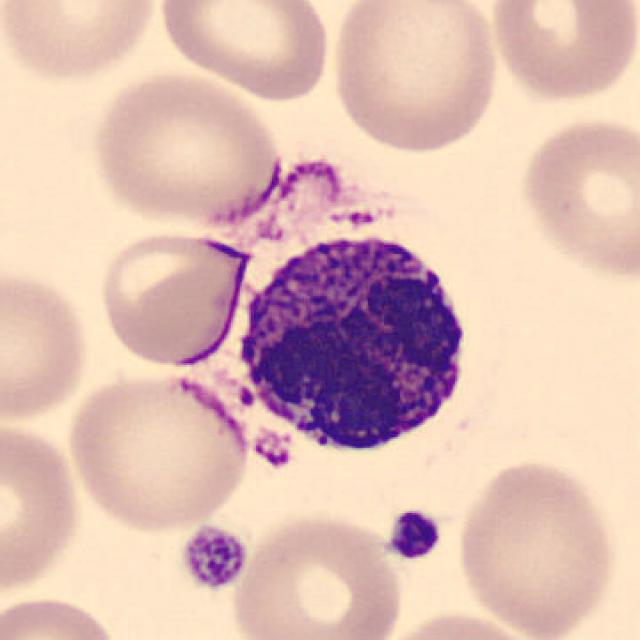Basophil: (218, 215, 484, 469)
Platelets: (178, 522, 250, 594), (384, 506, 444, 562)
RBC: (86, 67, 286, 231), (61, 367, 254, 536), (452, 453, 620, 640), (325, 0, 505, 157), (228, 508, 407, 640), (95, 226, 252, 370), (514, 111, 640, 286), (151, 0, 336, 104), (484, 0, 638, 106), (0, 416, 87, 603), (0, 261, 96, 427), (0, 0, 164, 85), (0, 590, 126, 640), (368, 608, 549, 640)
